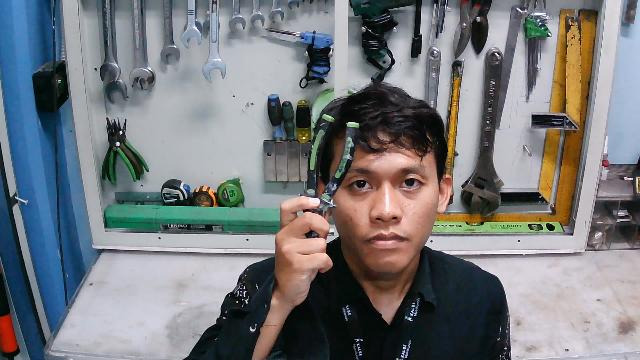tang_kombinasi: (300, 114, 361, 275)
